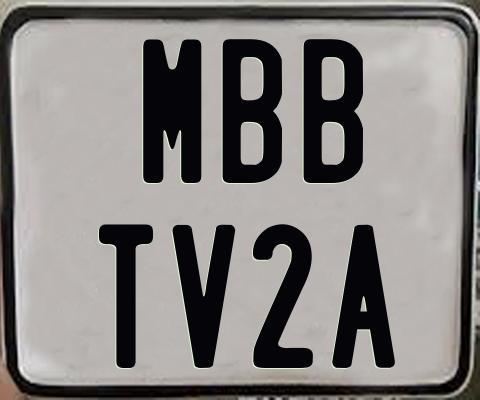2: (252, 221, 318, 367)
A: (331, 223, 399, 370)
B: (220, 36, 280, 186), (302, 39, 363, 186)
M: (141, 39, 202, 188)
T: (96, 222, 150, 368)
V: (171, 222, 234, 365)
